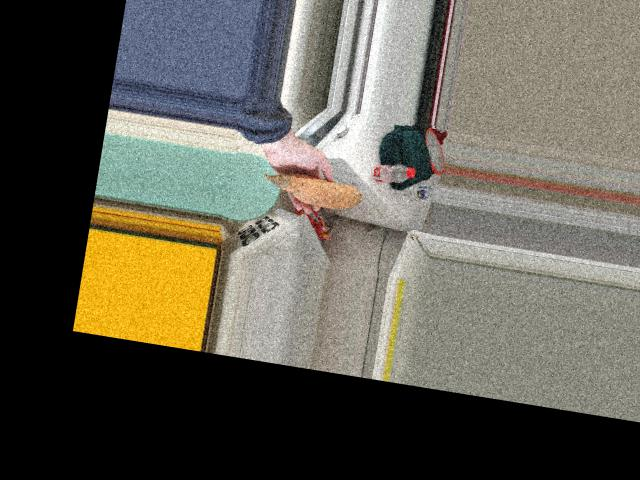sweet_potato: (264, 167, 364, 212)
